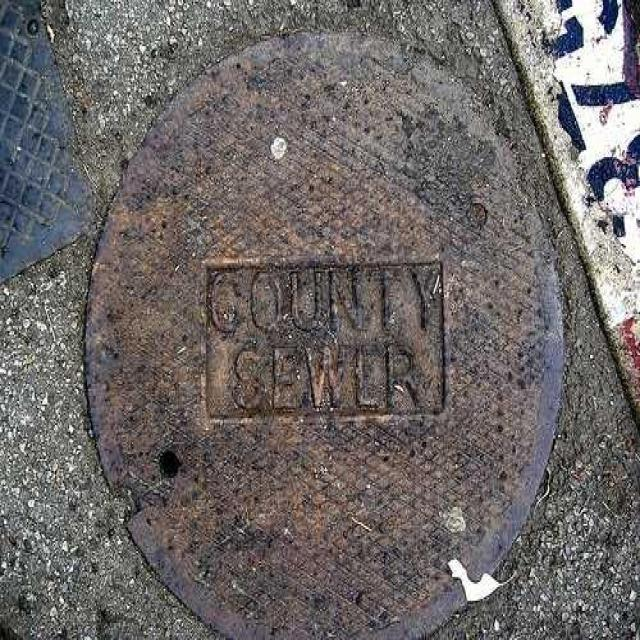manhole: (82, 29, 567, 640)
